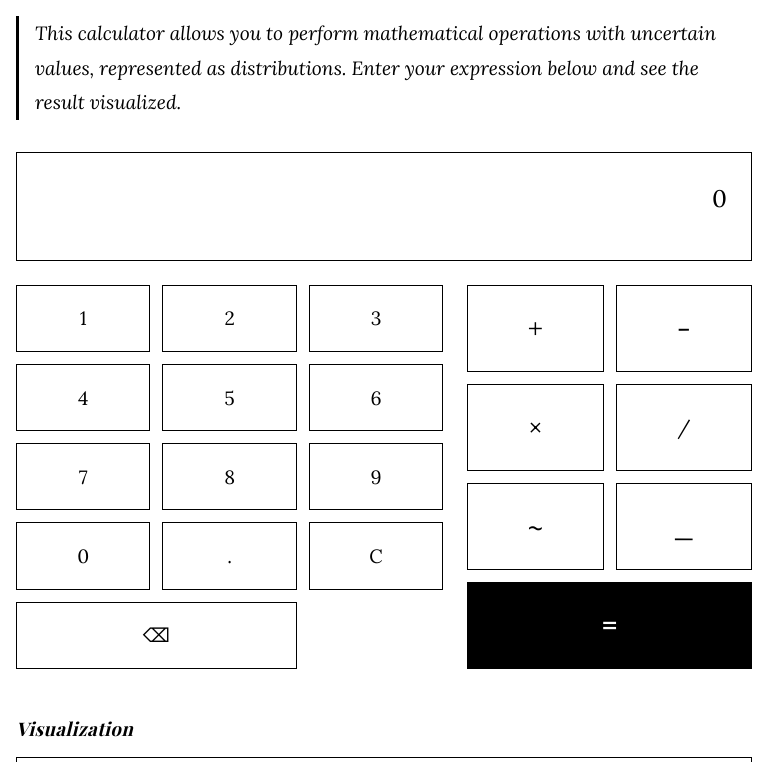
Scenario: Calculator.vue Integration › should clear the expression
Enter some expression
Click the button "1" at x=83, y=318, box x1=16 y1=285 x2=150 y2=352
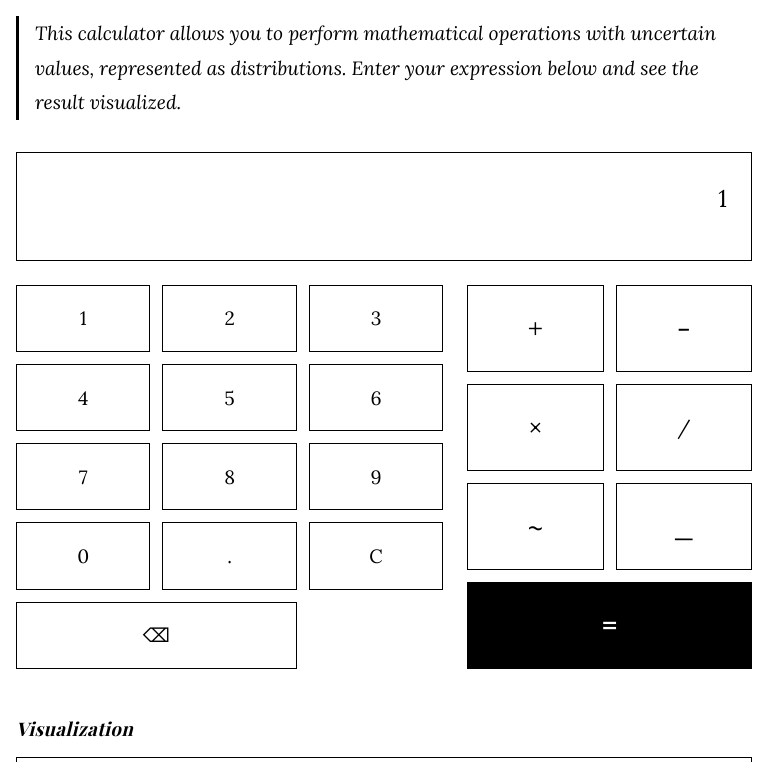
Click the button "2" at x=230, y=318, box x1=162 y1=285 x2=297 y2=352
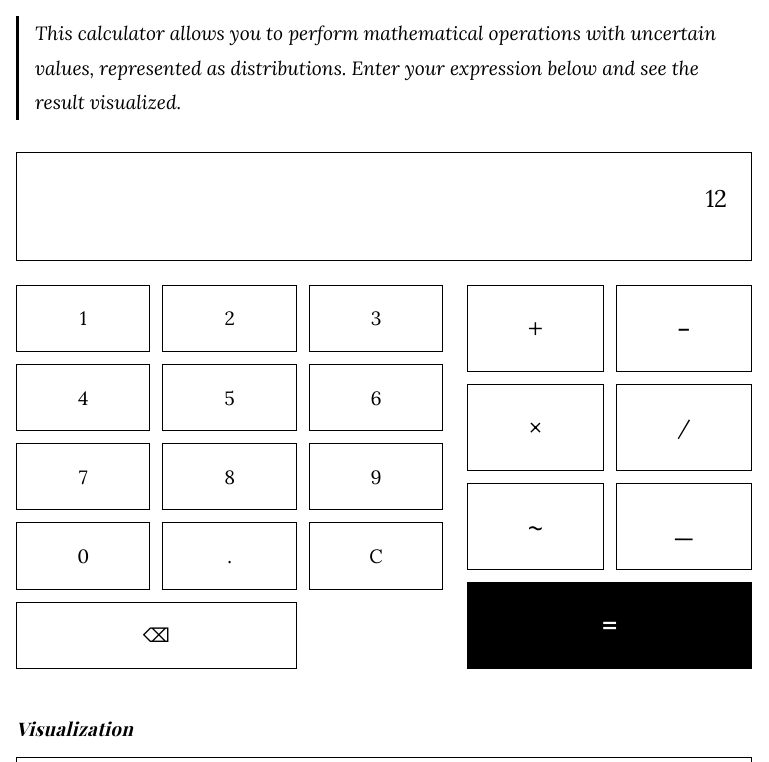
Check: the text with class "input-display" reads "12", box x1=705 y1=183 x2=727 y2=214
Click clear button (C)
Click the button "C" at x=376, y=556, box x1=309 y1=522 x2=443 y2=590
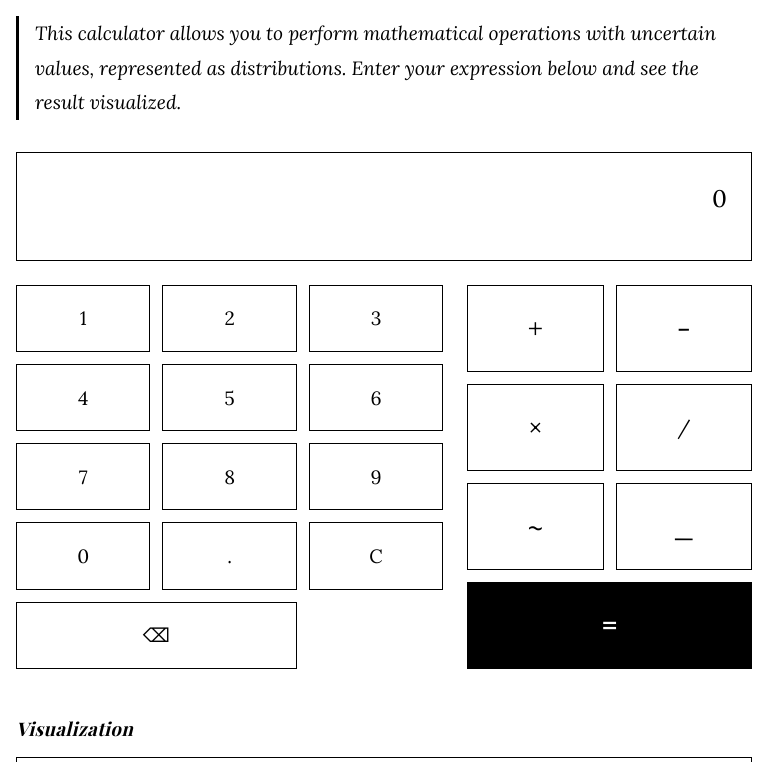
Check: the text with class "input-display" reads "0", box x1=712 y1=183 x2=727 y2=214
